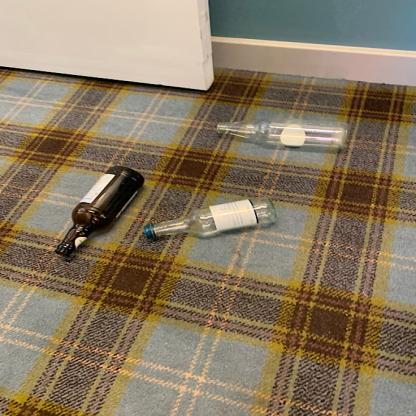trash: (48, 165, 147, 258), (143, 198, 279, 242), (208, 118, 352, 152)
